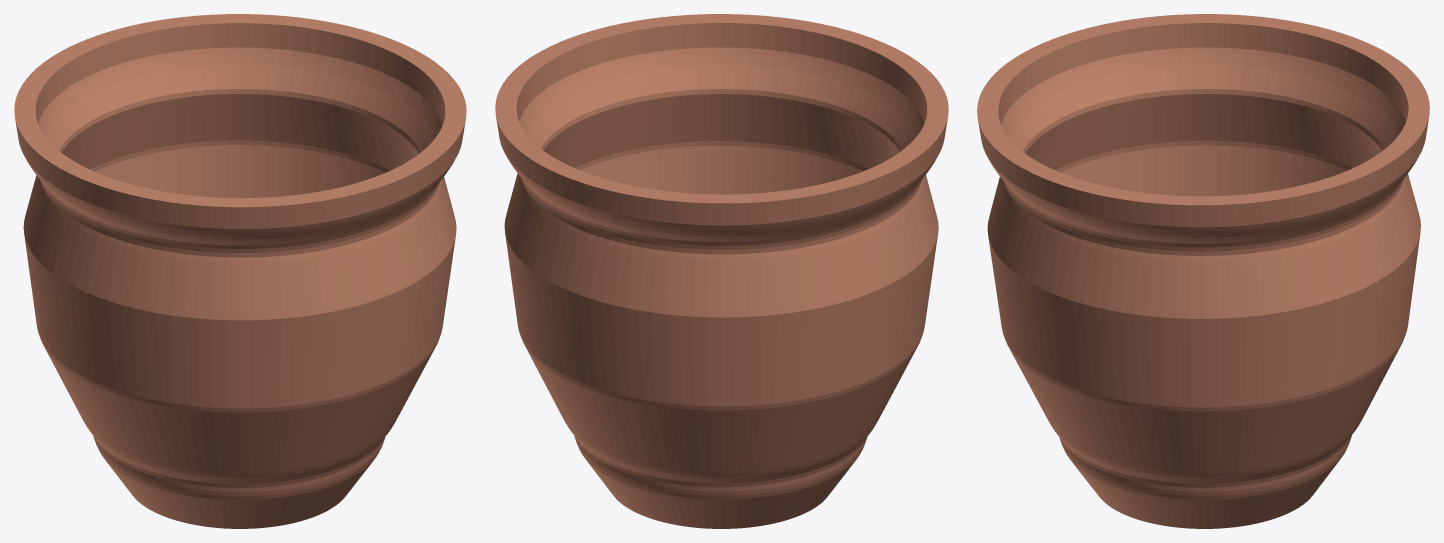
Rendered from Pot_05_Spanish_Bell.glb.
The picture shows the model from 3 angles, left to right: view 1: azimuth 30°, elevation 25°; view 2: azimuth 150°, elevation 25°; view 3: azimuth 270°, elevation 25°; orthographic projection.
Visible parts, largest first — view 1: Pot_05_Spanish_Bell; view 2: Pot_05_Spanish_Bell; view 3: Pot_05_Spanish_Bell.
Boxes of the visible parts, box(x1,y1,x2,y2) form: Pot_05_Spanish_Bell: box(14, 14, 466, 528); Pot_05_Spanish_Bell: box(495, 14, 948, 528); Pot_05_Spanish_Bell: box(977, 14, 1429, 528).
Size of the model in its own units: 0.234 by 0.2131 by 0.234.
